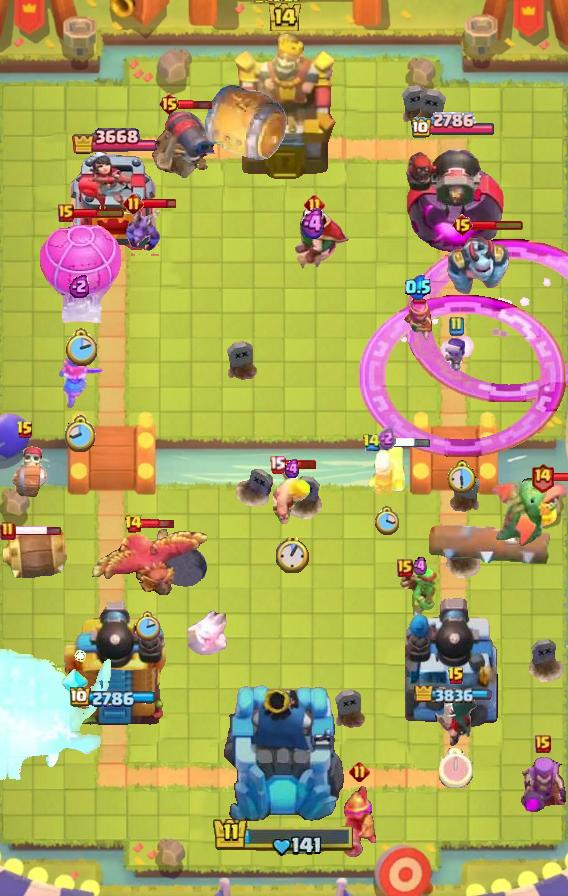archer: (271, 468, 313, 524)
baby-dragon: (157, 527, 208, 589)
bat: (185, 609, 229, 655)
bomb-tower: (339, 782, 379, 858)
cannon: (402, 298, 434, 342)
cannon-cart: (36, 218, 124, 326)
clock: (212, 816, 356, 858)
dirt: (202, 82, 288, 164)
electro-spirit: (299, 208, 329, 240), (405, 274, 431, 300), (69, 274, 91, 298), (376, 426, 395, 450), (283, 459, 302, 479), (413, 555, 427, 576)
electro-wizard: (488, 478, 568, 550)
elixir: (439, 748, 473, 788), (63, 328, 97, 366), (65, 414, 97, 454), (276, 536, 309, 573), (446, 460, 477, 494), (134, 611, 160, 641), (373, 506, 398, 536)
elixir-golem-small: (443, 230, 511, 296)
emote: (6, 524, 61, 537), (378, 436, 432, 449), (71, 207, 124, 219), (472, 219, 525, 231), (142, 198, 178, 211), (140, 517, 176, 530), (178, 97, 213, 110), (283, 458, 317, 469), (552, 471, 567, 483)
giant-snowball: (400, 566, 440, 620)
goblin: (444, 336, 468, 372)
hog-rider: (57, 356, 105, 410)
king-tower: (221, 682, 347, 826), (231, 35, 337, 182)
knight: (0, 445, 52, 499)
knight-evolution: (358, 294, 565, 458), (405, 238, 568, 402)
mega-knight: (0, 632, 132, 806)
minion: (427, 520, 553, 570)
mother-witch: (82, 529, 212, 603)
pad_2: (61, 667, 89, 699)
queen-tower: (69, 152, 159, 256)
rascal-girl: (516, 756, 568, 818)
royal-delivery: (126, 205, 162, 253)
royal-giant-evolution: (149, 108, 217, 178)
selected: (71, 126, 156, 158), (410, 112, 496, 140), (70, 687, 158, 709), (414, 686, 494, 703)
skeleton-king: (275, 204, 353, 272)
tesla: (433, 685, 479, 749)
text: (529, 462, 554, 493), (159, 92, 182, 116), (450, 213, 473, 237), (350, 761, 371, 783), (123, 194, 144, 215), (304, 194, 325, 215), (124, 514, 143, 534), (363, 433, 382, 452), (16, 420, 34, 440), (447, 666, 465, 686), (448, 316, 464, 336), (0, 521, 16, 541), (270, 455, 287, 473), (58, 204, 74, 222), (397, 559, 413, 577), (535, 735, 551, 753)
the-log: (0, 527, 74, 579)
tombstone: (365, 440, 407, 498)
tower-bar: (58, 595, 170, 731), (405, 595, 501, 731), (401, 138, 505, 256)
